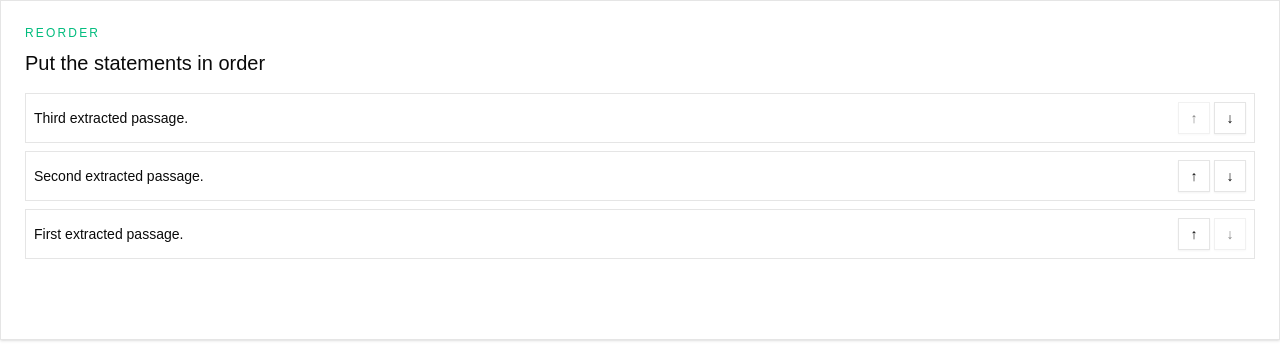
Test case: Reorder › confirms the correctly ordered sequence
The image size is (1280, 358).
Check: the text "Put the statements in order" is shown, box [25,52,265,74]
Click the button named "Move step 1 down" at x=1230, y=118, box [1214,102,1246,134]
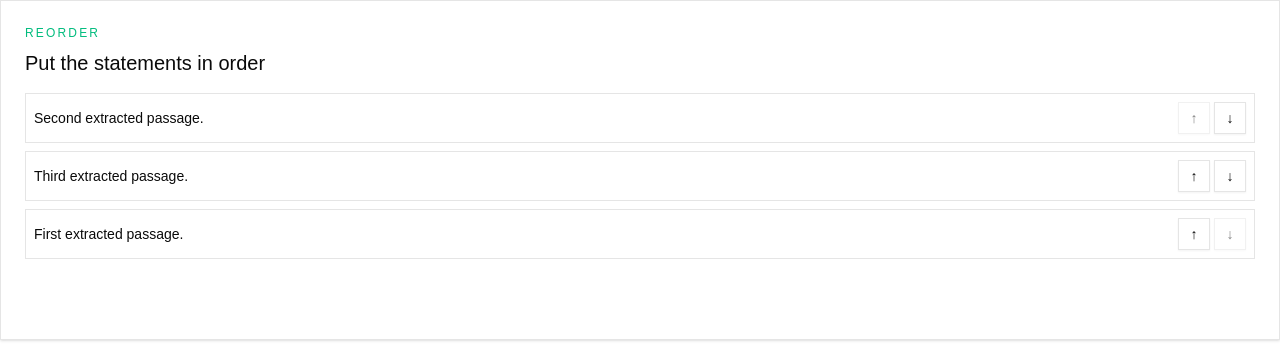
Click the button named "Move step 2 down" at x=1230, y=176, box [1214,160,1246,192]
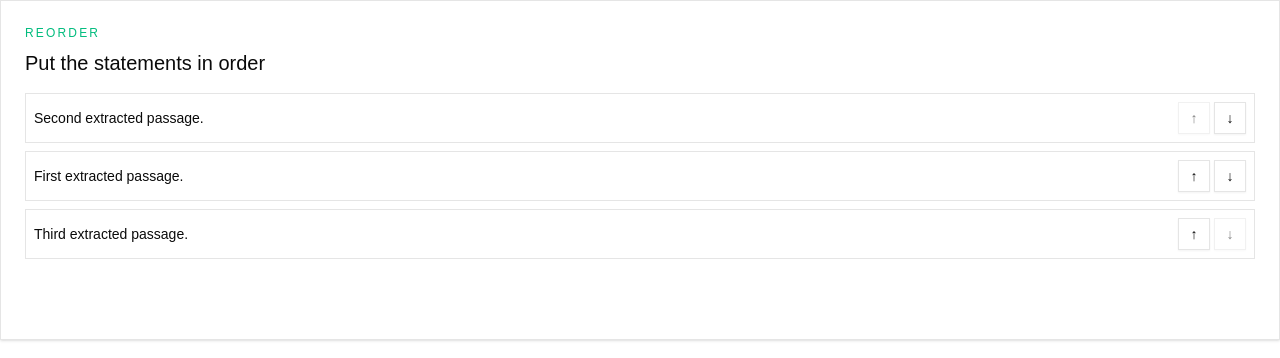
Click the button named "Move step 1 down" at x=1230, y=118, box [1214,102,1246,134]
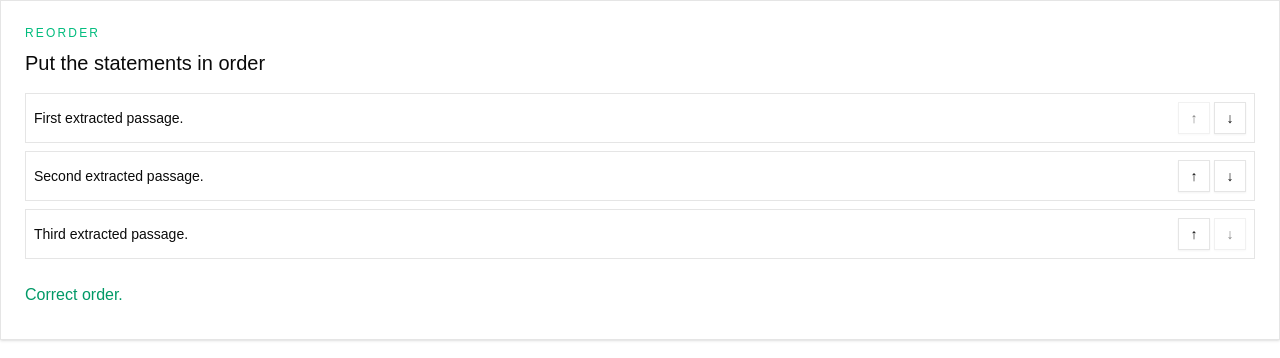
Check: the message reads "Correct order.", box [25,286,123,303]
